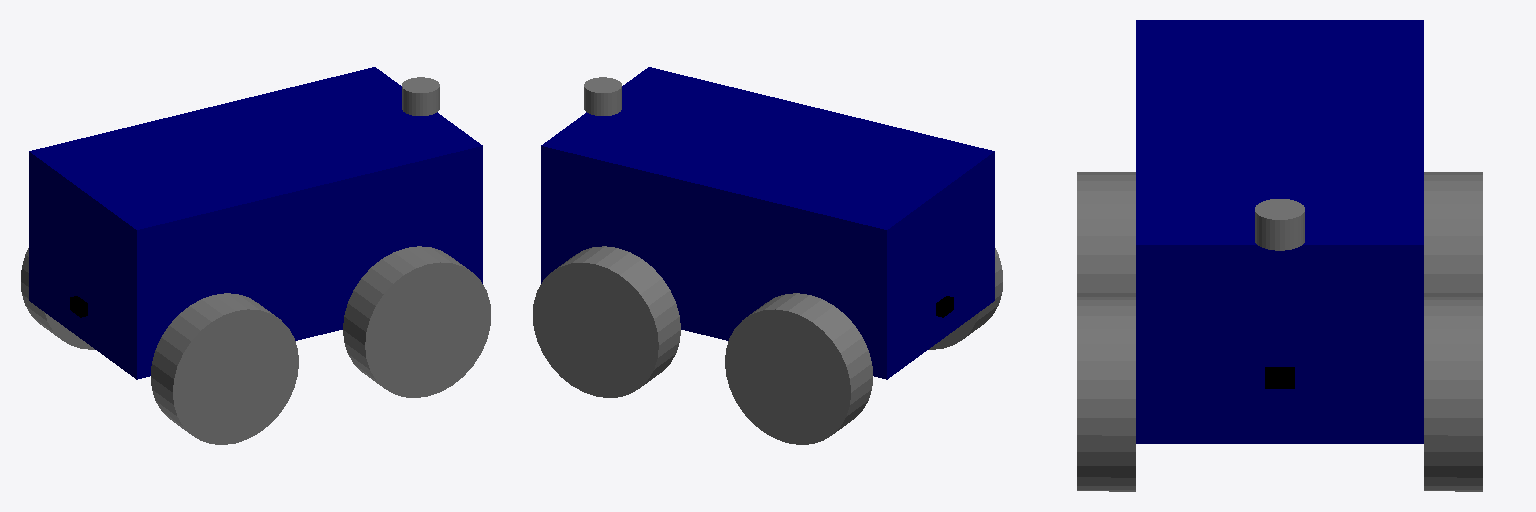
The robot description file, URDF, robot "my_robot":
<?xml version="1.0"?>
<robot name="my_robot">

    <material name="blue">
        <color rgba="0 0 0.5 1" />
    </material>

    <material name="grey">
        <color rgba="0.5 0.5 0.5 1" />
    </material>

    <material name="black">
        <color rgba="0.0 0.0 0.0 1" />
    </material>

    <link name="base_link">
        <visual>
            <geometry>
                <box size="0.63 0.34 0.26" />
            </geometry>
            <origin xyz="0 0 0" rpy="0 0 0" />
            <material name="blue" />
        </visual>
    </link>

    <link name="laser">
        <visual>
            <geometry>
                <cylinder radius="0.03" length="0.04"/>
            </geometry>
            <origin xyz="0 0 0" rpy="0 0 0"/>
            <material name="grey"/>
        </visual>
    </link>
    
    <link name="point_lidar_front">
        <visual>
            <geometry>
                <box size="0.0185 0.035 0.021"/>
            </geometry>
            <origin xyz="0 0 0" rpy="0 0 0"/>
            <material name="black"/>
        </visual>
    </link>
    
    <link name="point_lidar_rear">
        <visual>
            <geometry>
                <box size="0.0185 0.035 0.021"/>
            </geometry>
            <origin xyz="0 0 0" rpy="0 0 0"/>
            <material name="black"/>
        </visual>
    </link>
    
    <link name="imu_link" />

    <link name="front_right_wheel_link">
        <visual>
            <geometry>
                <cylinder radius="0.115" length="0.07" />
            </geometry>
            <origin xyz="0 0 0" rpy="1.57 0 0" />
            <material name="grey" />
        </visual>
    </link>
    <link name="front_left_wheel_link">
        <visual>
            <geometry>
                <cylinder radius="0.115" length="0.07" />
            </geometry>
            <origin xyz="0 0 0" rpy="1.57 0 0" />
            <material name="grey" />
        </visual>
    </link>
     <link name="rear_right_wheel_link">
        <visual>
            <geometry>
                <cylinder radius="0.115" length="0.07" />
            </geometry>
            <origin xyz="0 0 0" rpy="1.57 0 0" />
            <material name="grey" />
        </visual>
    </link>
    <link name="rear_left_wheel_link">
        <visual>
            <geometry>
                <cylinder radius="0.115" length="0.07" />
            </geometry>
            <origin xyz="0 0 0" rpy="1.57 0 0" />
            <material name="grey" />
        </visual>
    </link>

    <joint name="lidar_joint" type="fixed">
        <parent link="base_link"/>
        <child link="laser"/>
        <origin xyz="0.30 0.0 0.15" rpy="0 0 0"/>
    </joint>

    <joint name="imu_joint" type="fixed">
        <parent link="base_link"/>
        <child link="imu_link"/>
        <origin xyz="0 0 0.14" rpy="0 0 0"/>
    </joint>

    <joint name="point_lidar_front_joint" type="fixed">
        <parent link="base_link"/>
        <child link="point_lidar_front"/>
        <origin xyz="0.32 0.0 -0.04" rpy="0 0 0"/>
    </joint>

    <joint name="point_lidar_rear_joint" type="fixed">
        <parent link="base_link"/>
        <child link="point_lidar_rear"/>
        <origin xyz="-0.32 0.0 -0.07" rpy="0 0 3.141592653589793"/>
    </joint>

    <joint name="front_right_wheel_joint" type="continuous">
        <parent link="base_link" />
        <child link="front_right_wheel_link" />
        <origin xyz="0.175 0.205 -0.13" rpy="0 0 0" />
        <axis xyz="0 1 0" />
    </joint>

    <joint name="front_left_wheel_joint" type="continuous">
        <parent link="base_link" />
        <child link="front_left_wheel_link" />
         <origin xyz="-0.175 0.205 -0.13" rpy="0 0 0" />
        <axis xyz="0 1 0" />
    </joint>
    <joint name="rear_right_wheel_joint" type="continuous">
        <parent link="base_link" />
        <child link="rear_right_wheel_link" />
         <origin xyz="0.175 -0.205 -0.13" rpy="0 0 0" />
        <axis xyz="0 1 0" />
    </joint>

    <joint name="rear_left_wheel_joint" type="continuous">
        <parent link="base_link" />
        <child link="rear_left_wheel_link" />
         <origin xyz="-0.175 -0.205 -0.13" rpy="0 0 0" />
        <axis xyz="0 1 0" />
    </joint>



</robot>

--- What the picture shows (computed from the rendered views, not written in the file) ---
The picture shows the robot from 3 angles, left to right: view 1: azimuth 30°, elevation 25°; view 2: azimuth 150°, elevation 25°; view 3: azimuth 270°, elevation 25°; orthographic projection.
Model my_robot with 9 links and 8 joints (4 continuous, 4 fixed), rooted at base_link, posed every joint at zero.
Visible links, largest first — view 1: base_link, rear_right_wheel_link, rear_left_wheel_link, laser, front_left_wheel_link; view 2: base_link, front_right_wheel_link, front_left_wheel_link, laser, rear_left_wheel_link; view 3: base_link, front_right_wheel_link, rear_right_wheel_link, front_left_wheel_link, rear_left_wheel_link, laser, point_lidar_front.
Boxes of the visible links, box(x1,y1,x2,y2) form: base_link: box(29, 67, 482, 379); rear_right_wheel_link: box(343, 246, 490, 397); rear_left_wheel_link: box(151, 293, 298, 444); laser: box(402, 77, 439, 115); front_left_wheel_link: box(21, 248, 94, 349); base_link: box(541, 67, 994, 379); front_right_wheel_link: box(533, 246, 680, 397); front_left_wheel_link: box(725, 293, 872, 444); laser: box(584, 77, 621, 115); rear_left_wheel_link: box(929, 248, 1002, 349); base_link: box(1136, 20, 1423, 443); front_right_wheel_link: box(1424, 297, 1482, 491); rear_right_wheel_link: box(1077, 297, 1135, 491); front_left_wheel_link: box(1424, 172, 1482, 296); rear_left_wheel_link: box(1077, 172, 1135, 296); laser: box(1255, 199, 1304, 250); point_lidar_front: box(1265, 367, 1294, 388).
Bounding box of the posed robot: 0.6593 × 0.4802 × 0.415 m (x, y, z).
Geometry: primitives only (box / cylinder / sphere), no mesh files.
